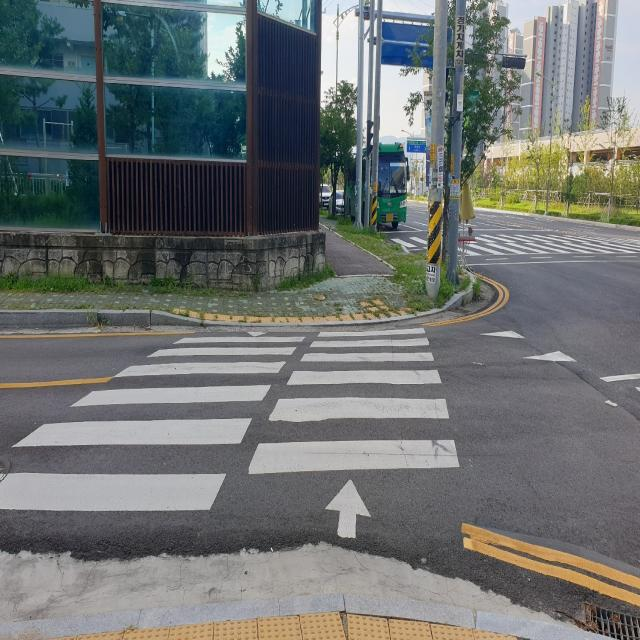횡단보도: (0, 324, 462, 544), (388, 225, 640, 261)
